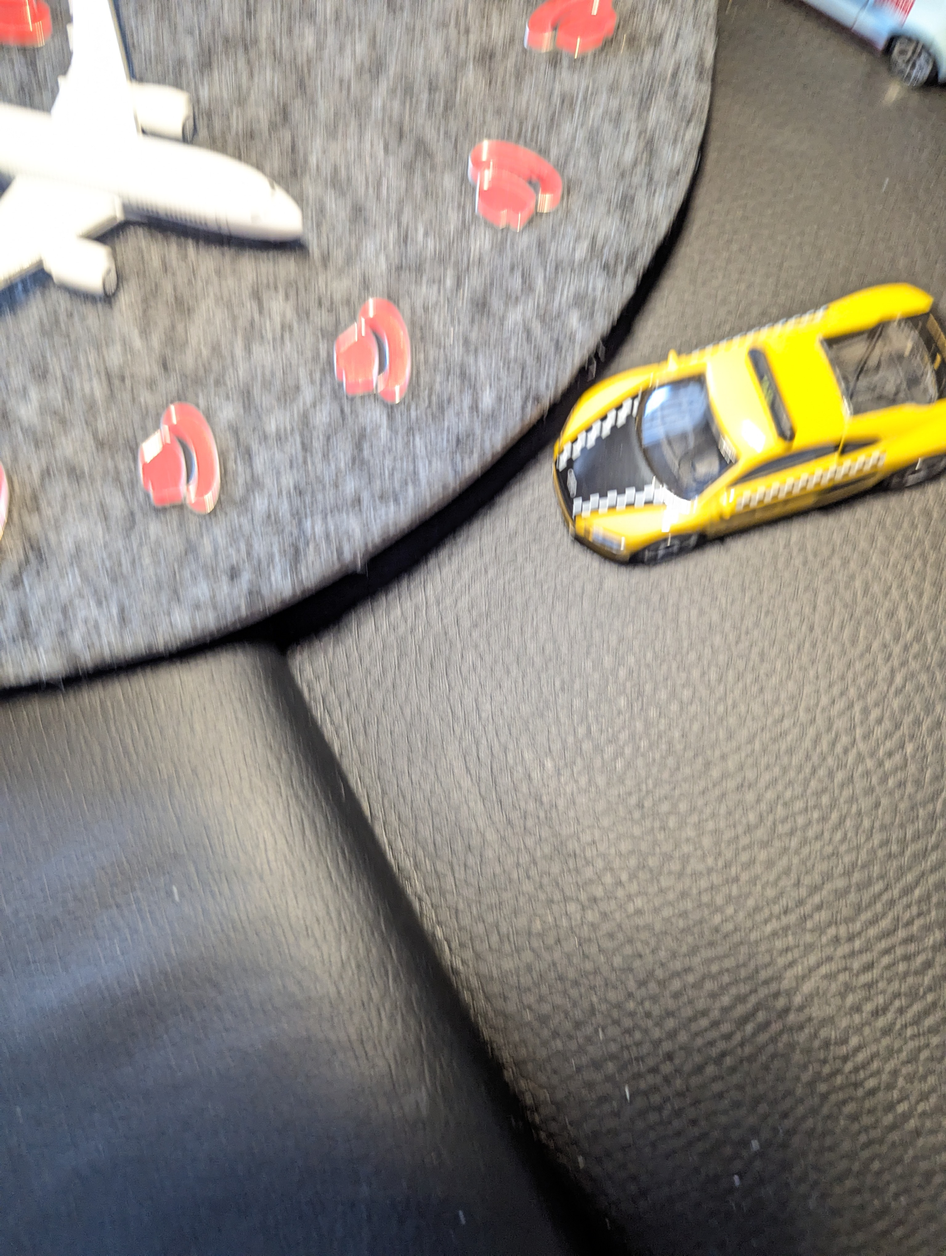Airplane: (0, 0, 377, 357)
Car: (540, 272, 946, 580)
Red-Hat: (115, 378, 240, 529), (446, 126, 586, 248), (315, 281, 432, 424), (516, 0, 641, 65)
